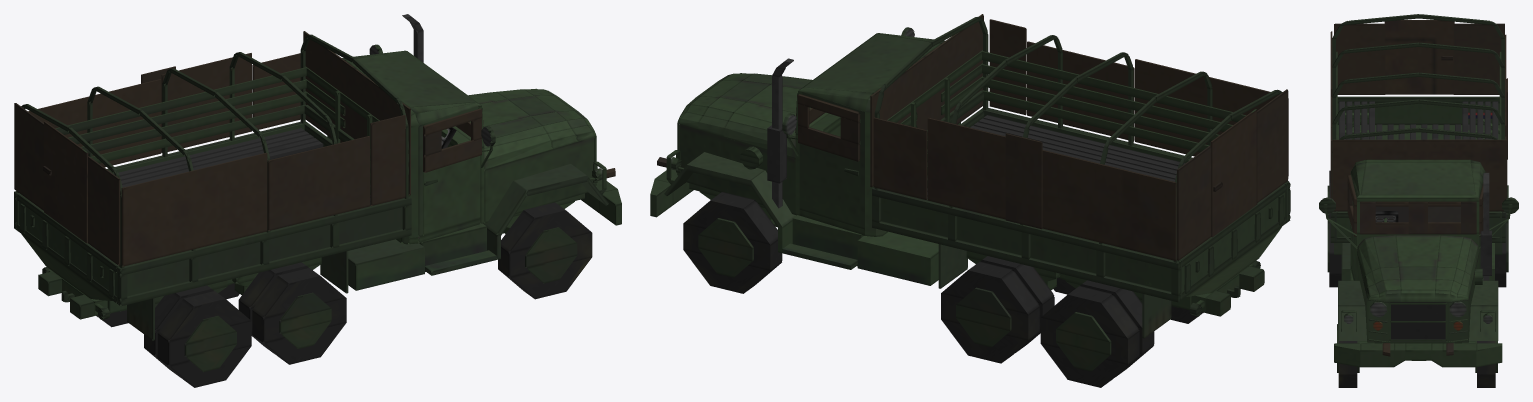
3 views of the same model, side by side, from view 1: azimuth 30°, elevation 25°; view 2: azimuth 150°, elevation 25°; view 3: azimuth 270°, elevation 25° (orthographic). The views are drawn at different scales.
Visible parts, largest first — view 1: bodyModel329, bodyModel330, bodyModel69, bodyModel335, bodyModel350, bodyModel0, bodyModel332, bodyModel234, bodyModel333, bodyModel38, bodyModel331, bodyModel116 (+56 smaller); view 2: bodyModel332, bodyModel333, bodyModel70, bodyModel335, bodyModel329, bodyModel350, bodyModel233, bodyModel334, bodyModel38, bodyModel330, bodyModel0, bodyModel52 (+60 smaller); view 3: bodyModel335, bodyModel350, bodyModel38, bodyModel349, bodyModel348, bodyModel132, bodyModel76, bodyModel0, bodyModel1, bodyModel75, bodyModel124, bodyModel119 (+76 smaller).
Boxes of the visible parts, x1,y1,x2,y2 form: bodyModel329: (121,152,267,266); bodyModel330: (267,136,369,230); bodyModel69: (117,198,405,304); bodyModel335: (303,31,410,195); bodyModel350: (44,121,88,243); bodyModel0: (484,111,594,223); bodyModel332: (28,79,161,167); bodyModel234: (423,156,480,235); bodyModel333: (161,53,251,152); bodyModel38: (346,51,475,115); bodyModel331: (370,115,405,205); bodyModel116: (348,239,424,290); bodyModel332: (1042,150,1176,260); bodyModel333: (927,117,1005,219); bodyModel70: (881,198,1181,300); bodyModel335: (870,14,983,187); bodyModel329: (1135,59,1288,175); bodyModel350: (1210,109,1257,237); bodyModel233: (799,143,860,227); bodyModel334: (873,117,927,199); bodyModel38: (805,33,940,93); bodyModel330: (1027,41,1134,141); bodyModel0: (679,124,795,214); bodyModel52: (857,231,938,285); bodyModel335: (1332,139,1507,211); bodyModel350: (1384,20,1454,94); bodyModel38: (1360,162,1475,194); bodyModel349: (1334,23,1385,94); bodyModel348: (1453,23,1504,94); bodyModel132: (1390,302,1445,341); bodyModel76: (1337,103,1499,122); bodyModel0: (1357,252,1479,342); bodyModel1: (1395,235,1440,266); bodyModel75: (1337,96,1499,103); bodyModel124: (1469,305,1498,340); bodyModel119: (1338,305,1366,340).
Size of the model in its own units: 136 by 57.4 by 53.5.
